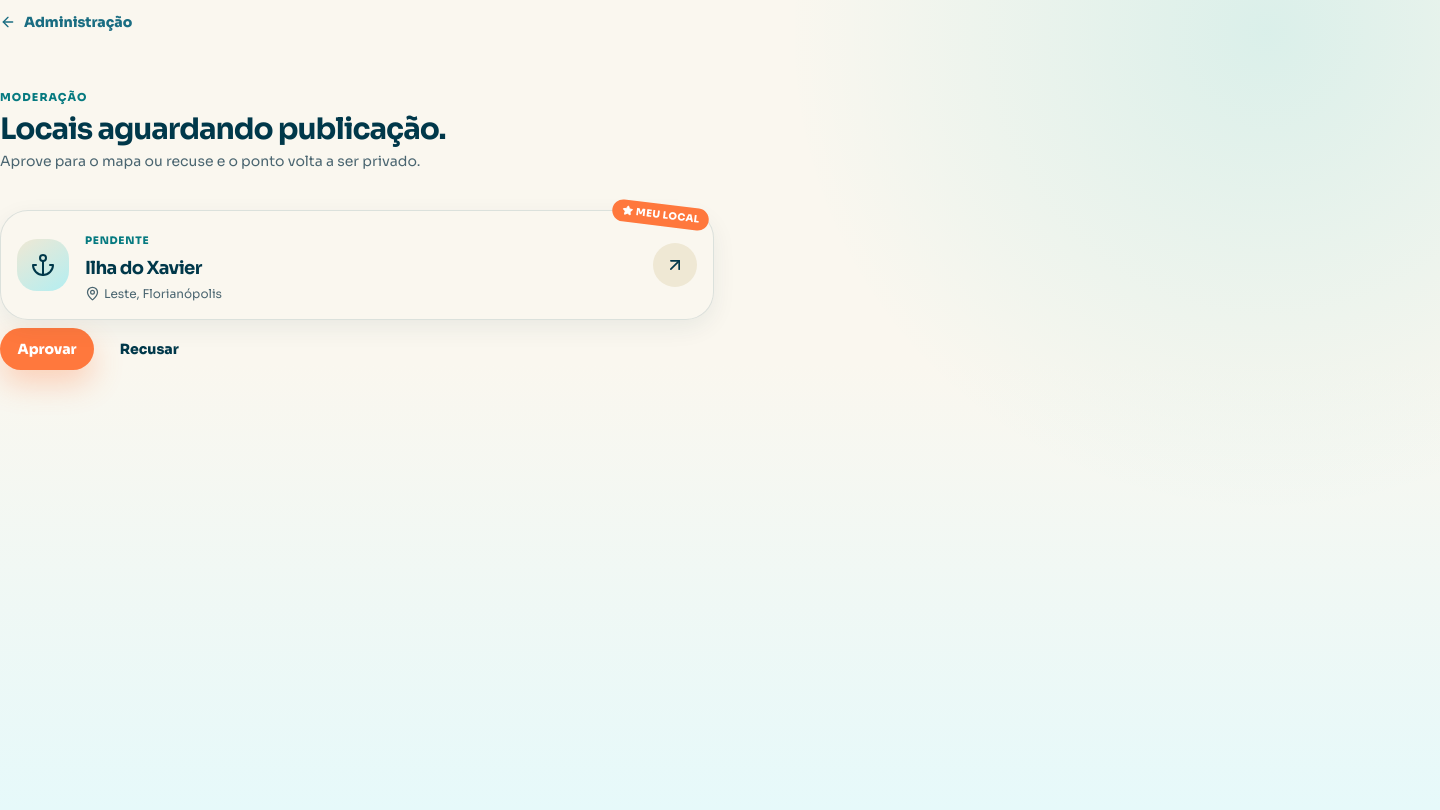
Test: AdminSpotsPage › cancela a aprovação sem publicar o local
What coordinates should you click on to do the following:
click the button "Aprovar"
I would click on:
 (47, 349)
Its box is [0,328,94,370].
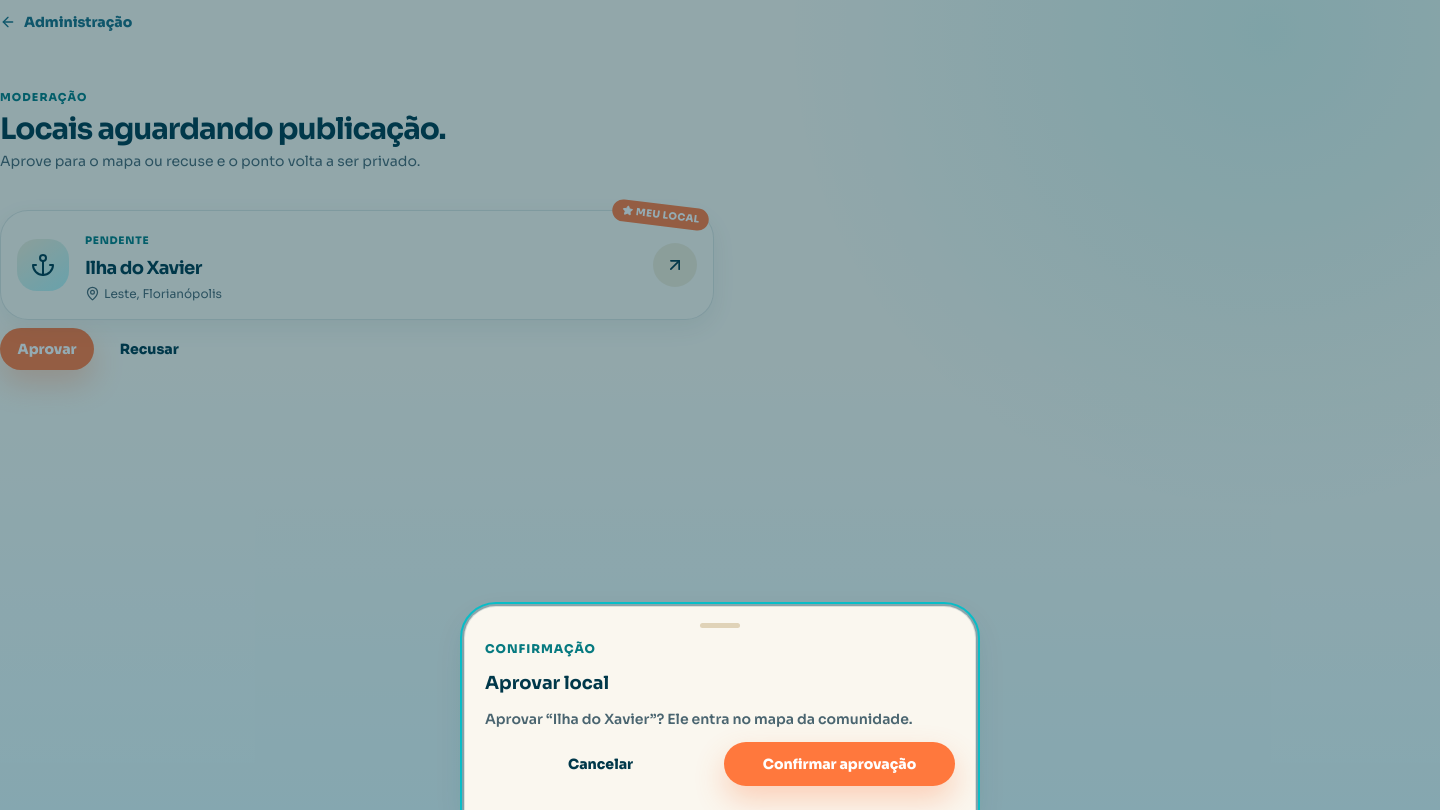
What coordinates should you click on to do the following:
click the button "Cancelar"
I would click on:
 (600, 764)
Its box is [485,742,716,786].
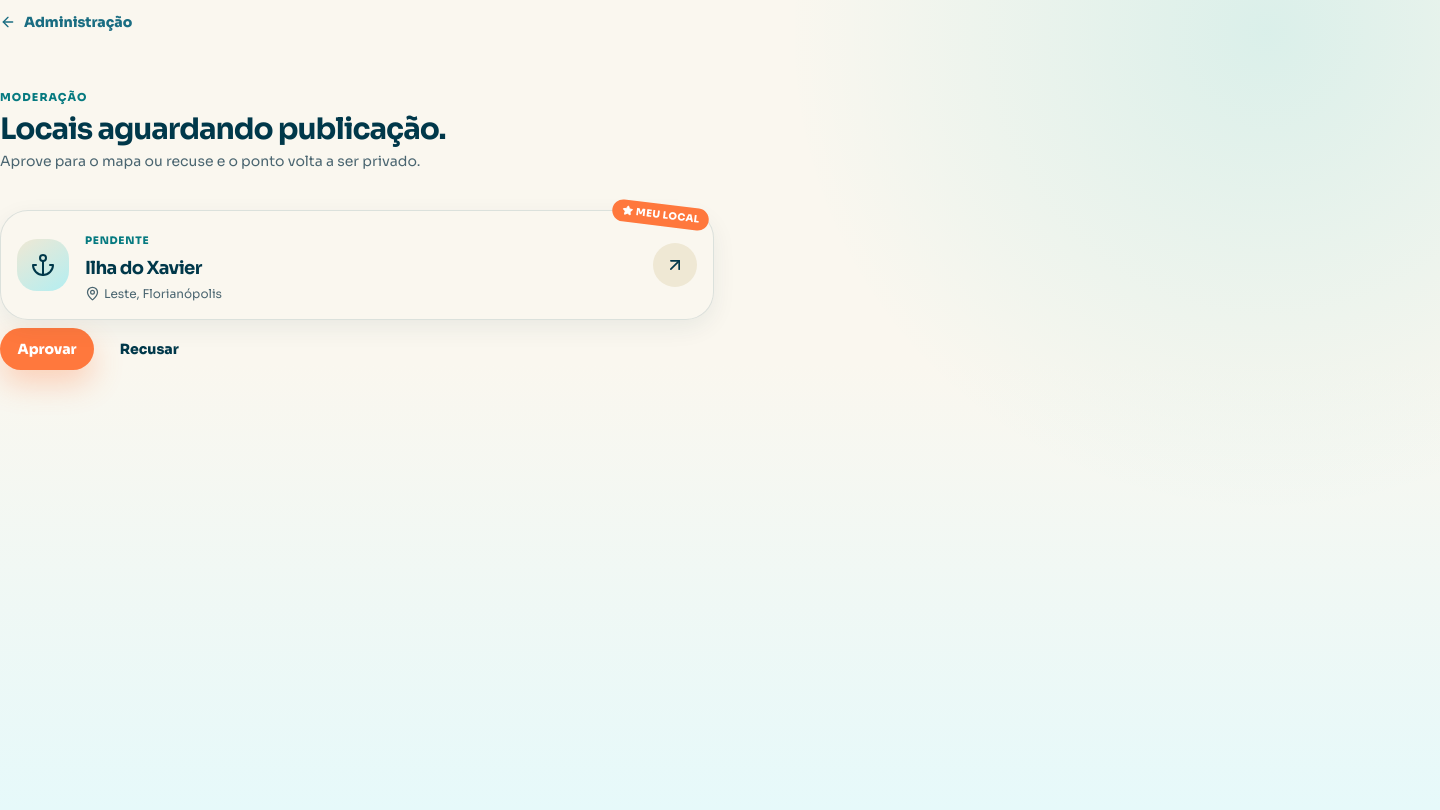
Check: the heading "Aprovar local" is gone
